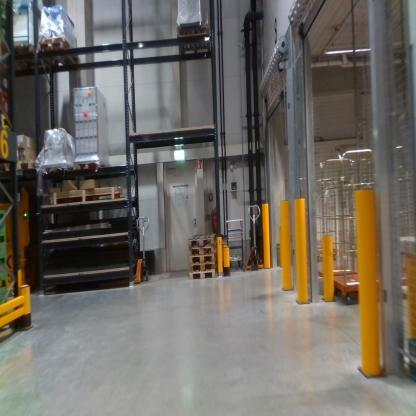pallets: (186, 233, 220, 280)
